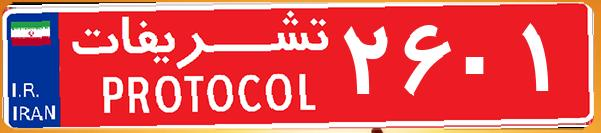0: (460, 20, 520, 115)
1: (520, 20, 580, 115)
2: (340, 20, 400, 115)
6: (400, 20, 460, 115)
تشریفات: (60, 8, 340, 125)
